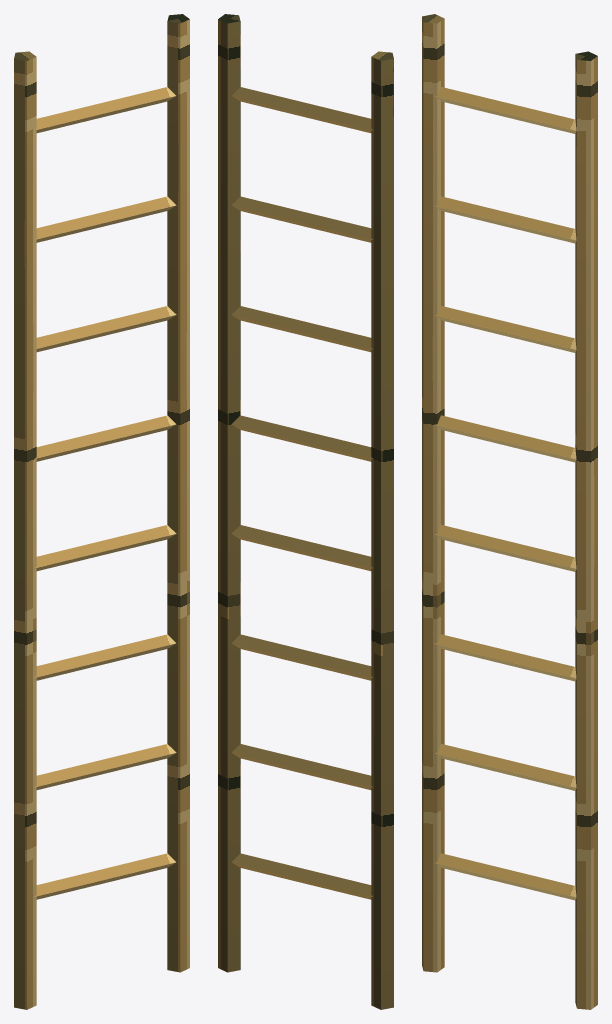
Rendered from JP_Prop_LadderBamboo_A.glb.
3 renders of one model, left to right at view 1: azimuth 30°, elevation 25°; view 2: azimuth 150°, elevation 25°; view 3: azimuth 330°, elevation 25°, orthographic.
Visible parts, largest first — view 1: JP_Prop_LadderBamboo_A; view 2: JP_Prop_LadderBamboo_A; view 3: JP_Prop_LadderBamboo_A.
Part boxes in pixels (left/top/right/bottom): JP_Prop_LadderBamboo_A: left=14, top=14, right=189, bottom=1009; JP_Prop_LadderBamboo_A: left=218, top=14, right=393, bottom=1009; JP_Prop_LadderBamboo_A: left=422, top=14, right=597, bottom=1009.
Bounding box in the file's own units: 0.4943 × 2.6 × 0.0571.
Materials: 1 (1 with a texture image).
